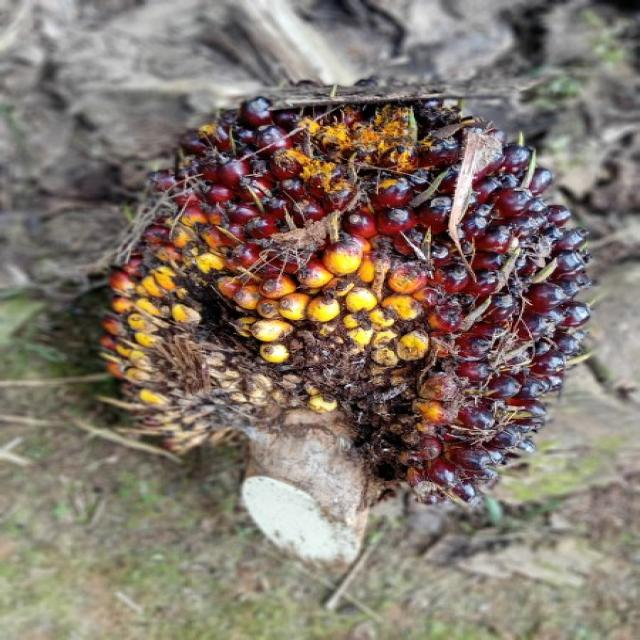fraksi 1: (85, 69, 630, 550)
